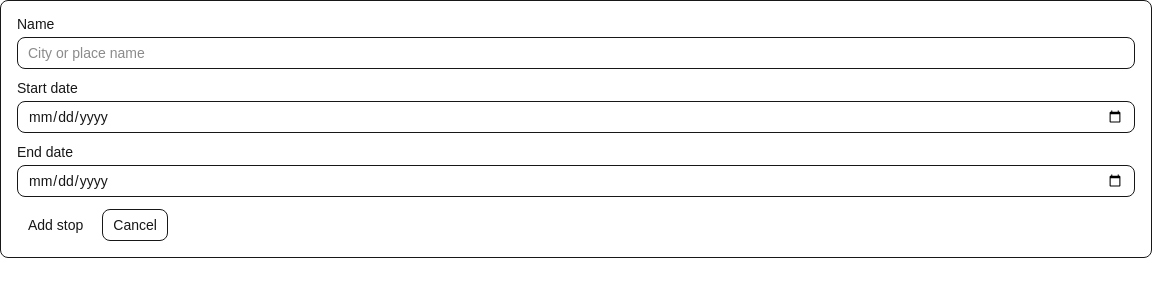
Test: AddStopFormView — date validation › shows end date required error when only name and start date are provided
Type "Vienna" into the field labelled "Name". click: [576, 53]
box: x1=17 y1=37 x2=1135 y2=69
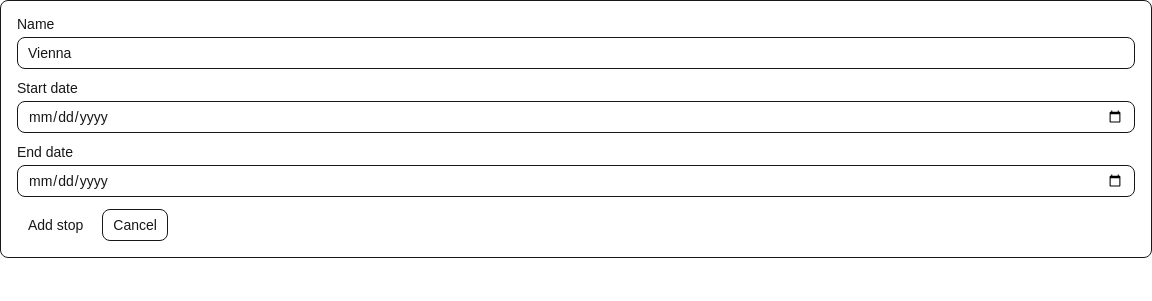
Type "2025-07-01" into the date field labelled "Start date". click: [576, 117]
box: x1=17 y1=101 x2=1135 y2=133
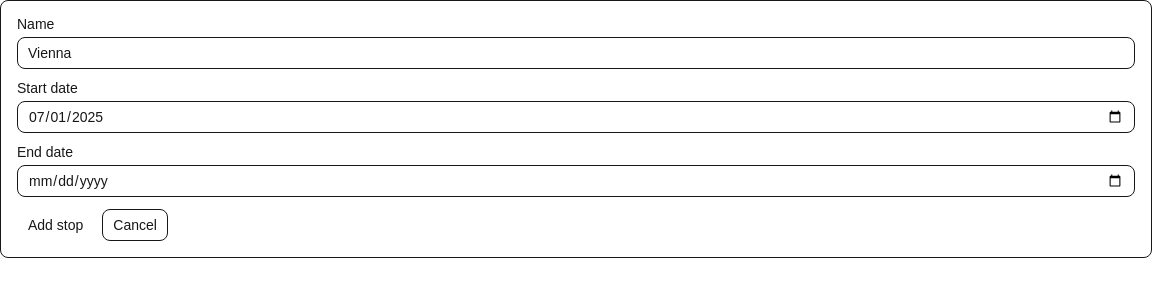
Click the button "Add stop". click: [56, 225]
box: x1=17 y1=209 x2=94 y2=241
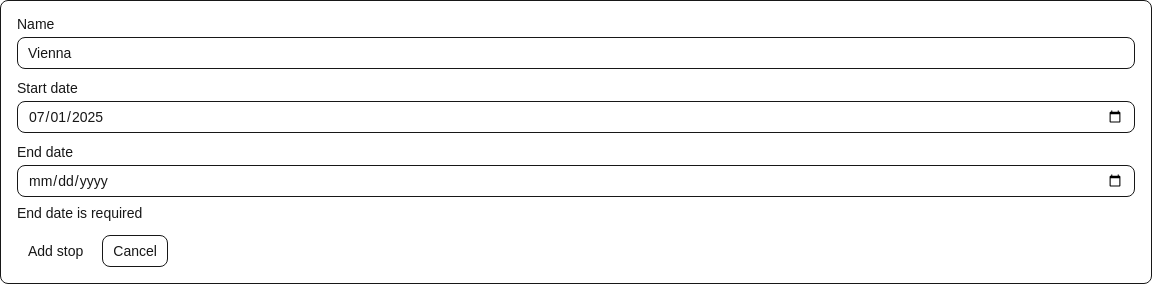
Result: the text "End date is required" is shown at x1=17 y1=205 x2=142 y2=221
